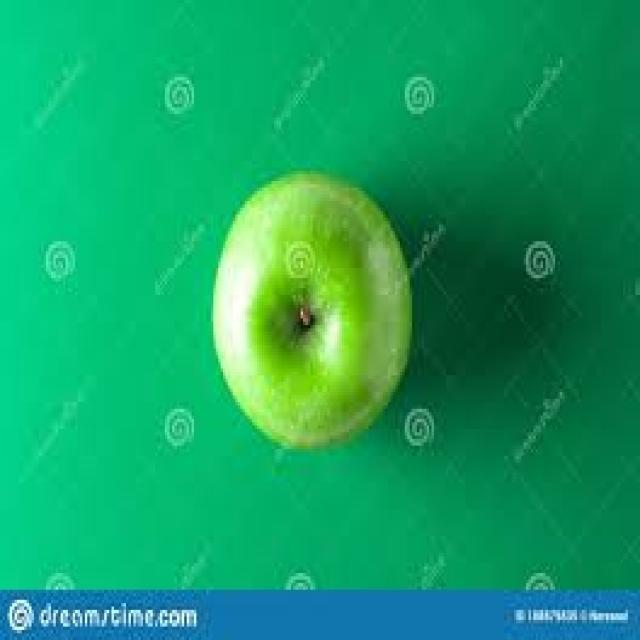Fresh Apple: (212, 163, 415, 450)
